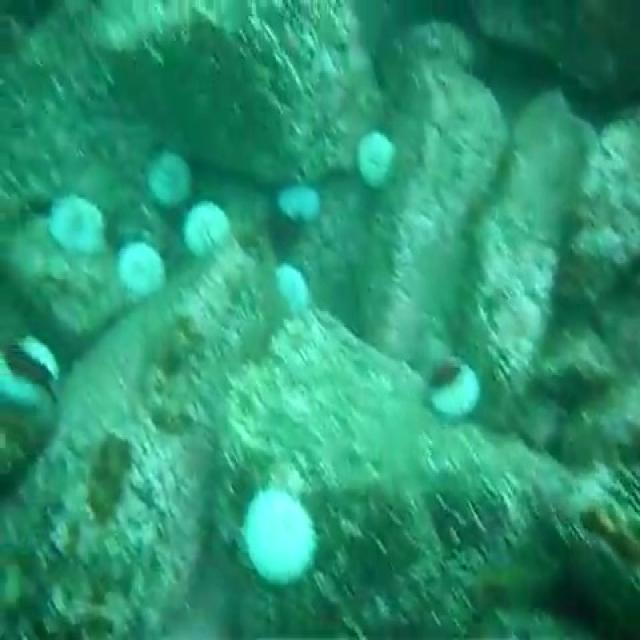Deniz Kestanesi: (238, 482, 323, 583), (426, 352, 482, 422), (48, 192, 107, 258), (180, 201, 233, 255), (114, 243, 167, 297), (354, 131, 401, 187), (144, 149, 191, 202), (275, 181, 327, 227), (274, 259, 314, 317)
